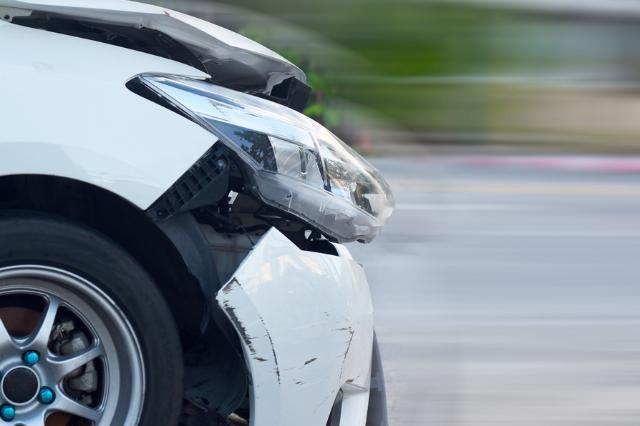Bonnet: (3, 0, 311, 86)
Bumper: (249, 254, 380, 426)
